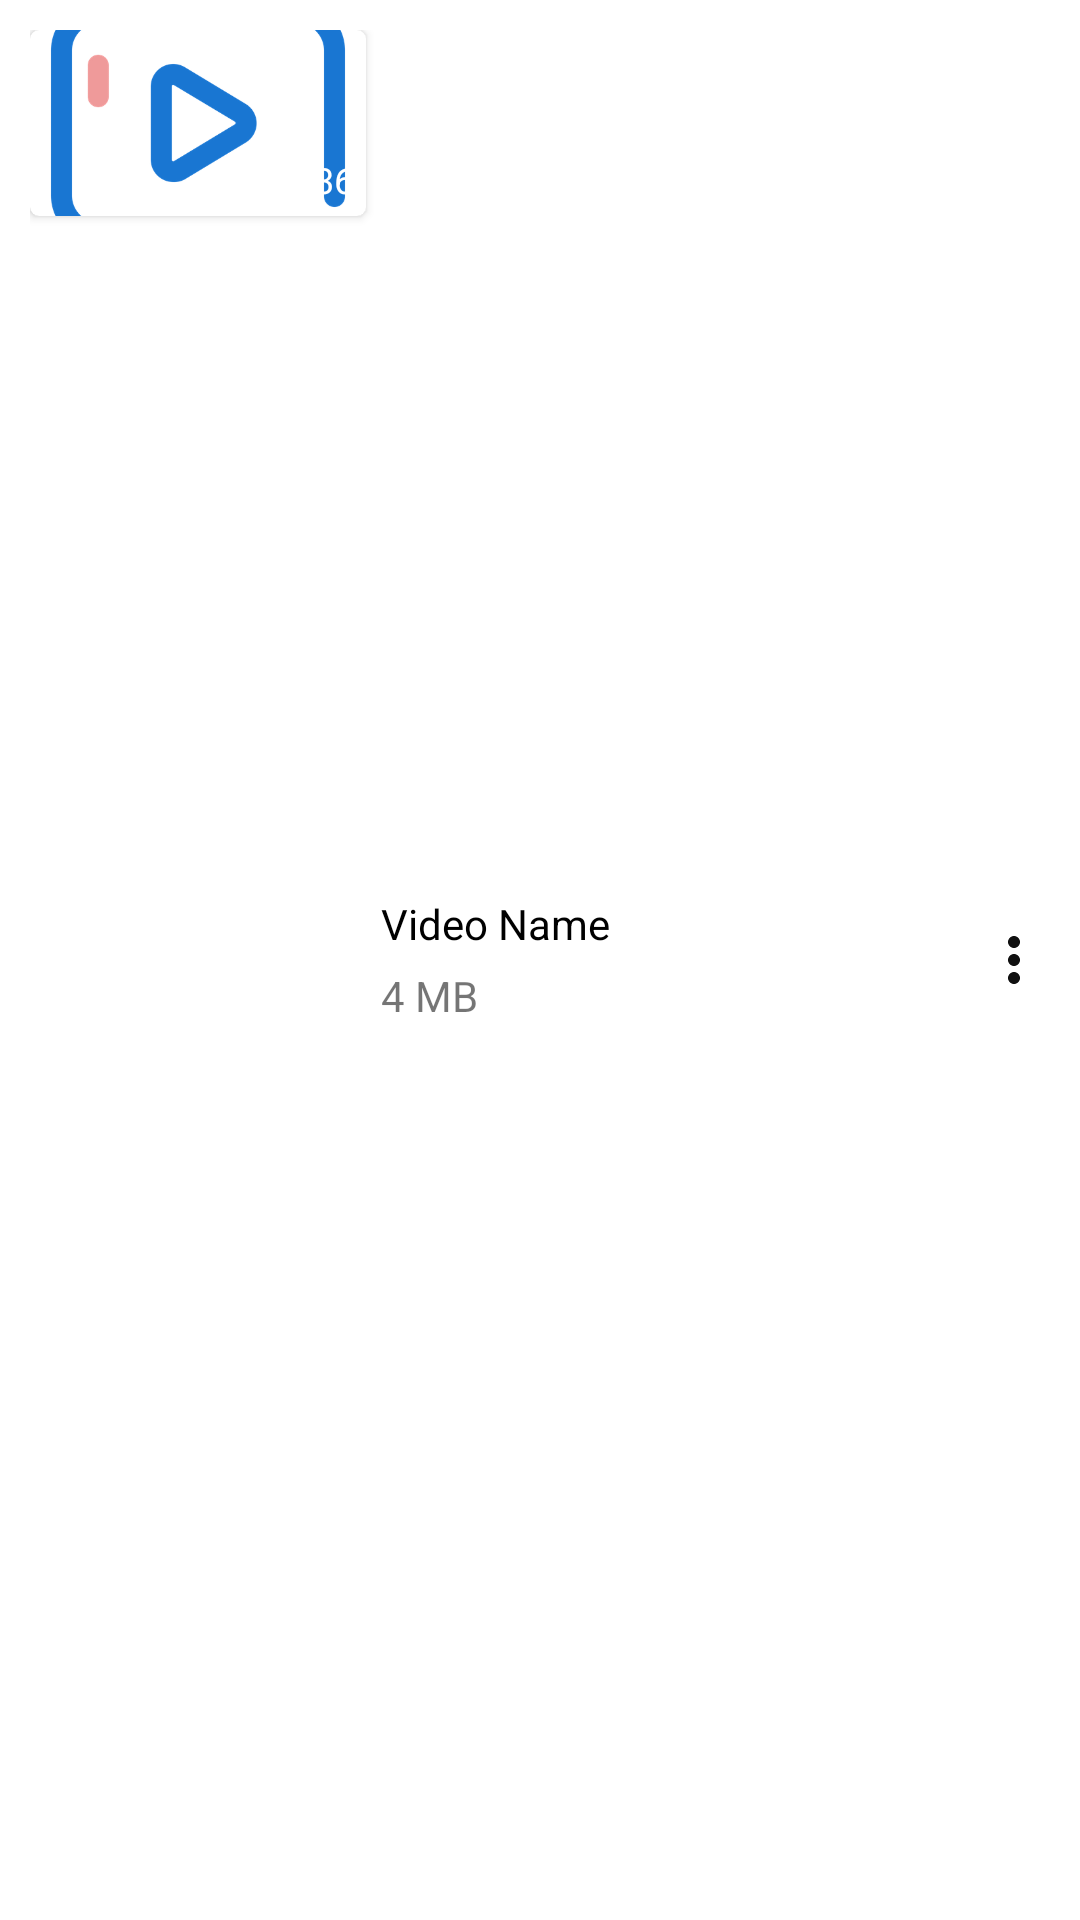

Named icons in this screenshot (1080x1920) and their centers, point (x, y):
more: point (1014, 960)
vpicon: point (187, 123)
